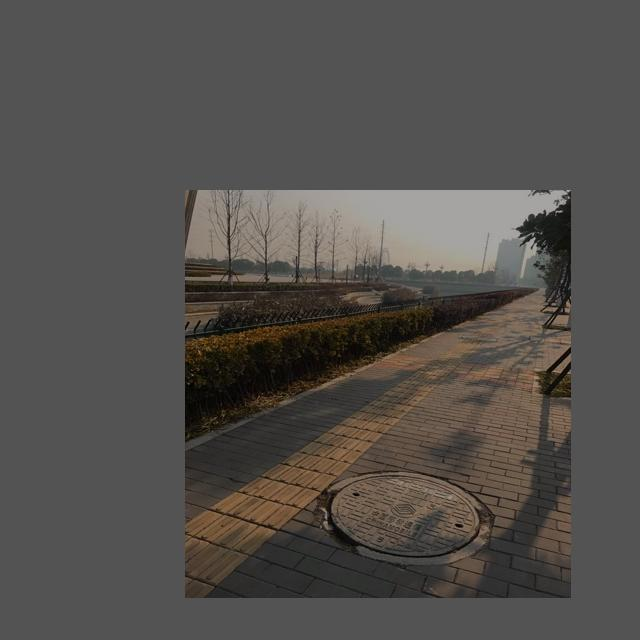circle: (314, 471, 496, 565)
